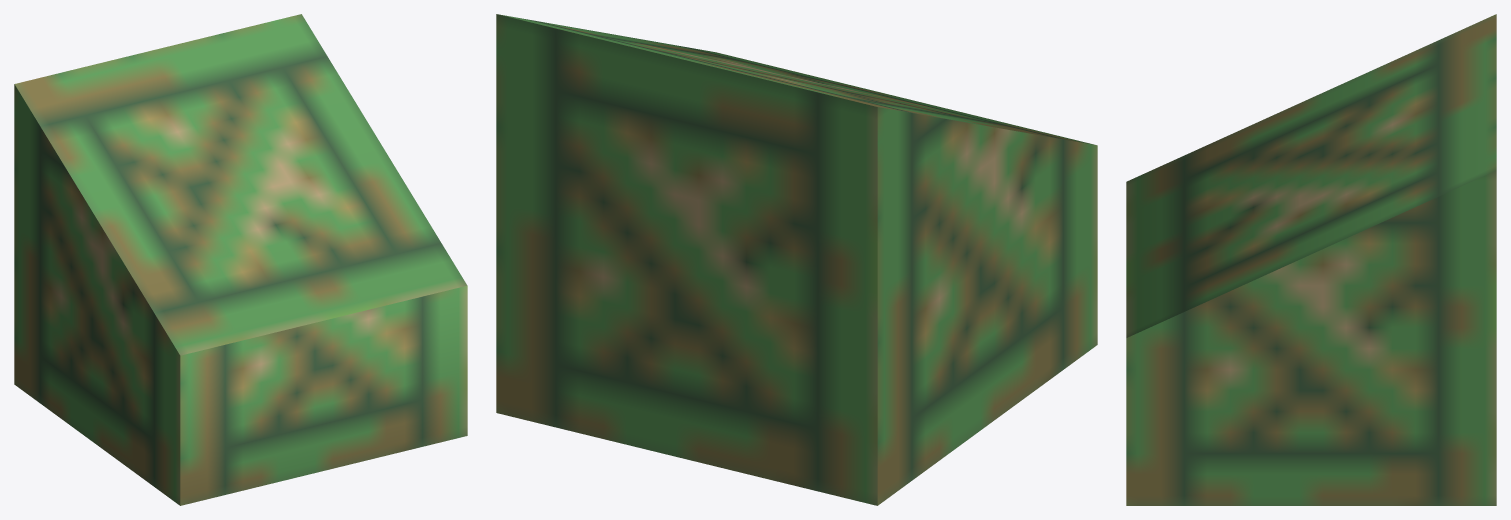
Rendered from cube-from-half-hor-diag-cut-16x16x16.obj.
3 renders of one model, left to right at view 1: azimuth 30°, elevation 25°; view 2: azimuth 150°, elevation 25°; view 3: azimuth 270°, elevation 25°, orthographic. The views are drawn at different scales.
Parts seen in each view (by area): view 1: Default; view 2: Default; view 3: Default.
Part boxes in pixels (box(x1,y1,x2,y2)): Default: box(14, 14, 467, 505); Default: box(496, 14, 1097, 505); Default: box(1126, 14, 1496, 505).
Bounding box in the file's own units: 1 × 1 × 1.
